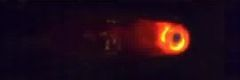keyhole: (171, 29, 184, 47)
